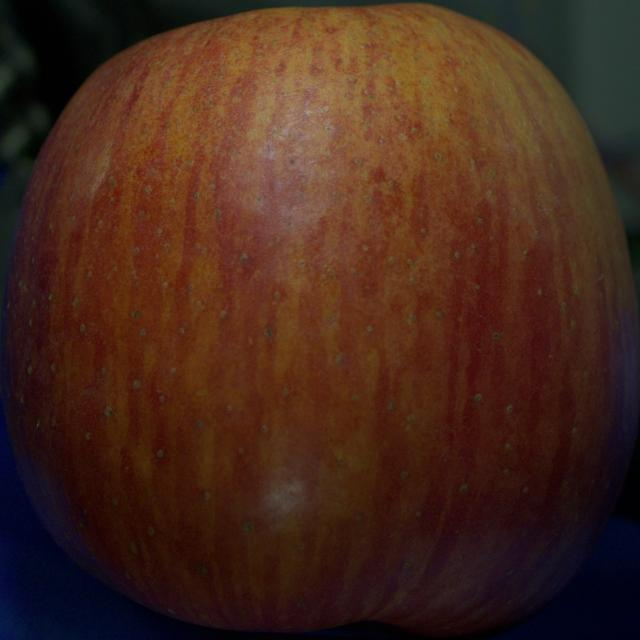apple: (0, 4, 639, 636)
